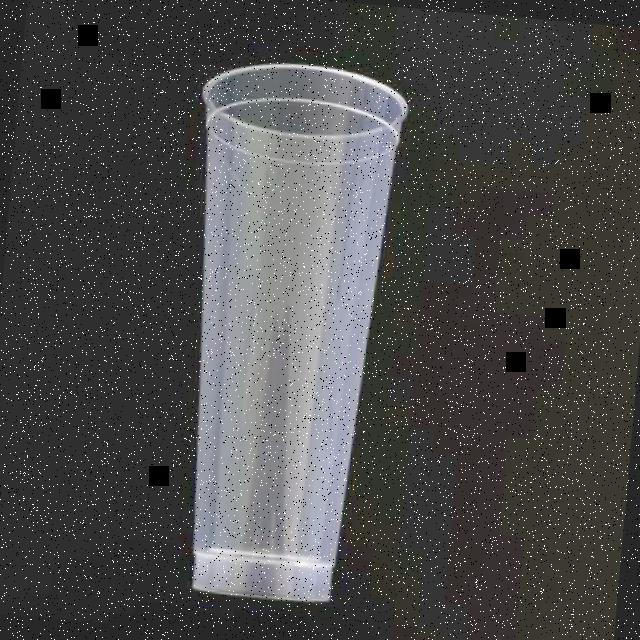plastic_box: (160, 56, 412, 610)
